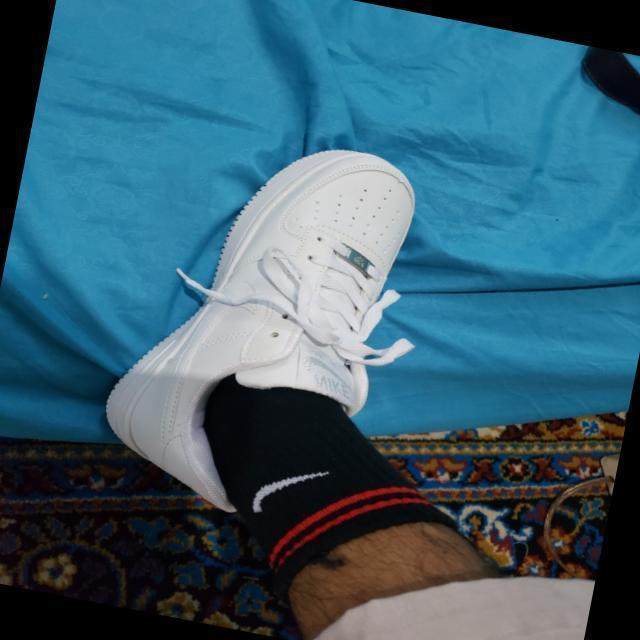nike fake air force: (87, 105, 448, 546)
